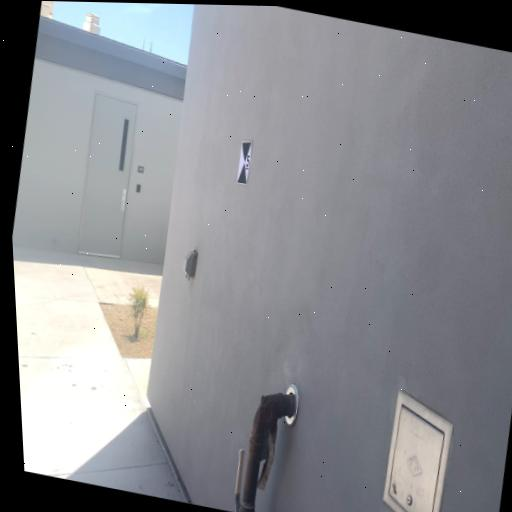target5: (234, 140, 254, 184)
